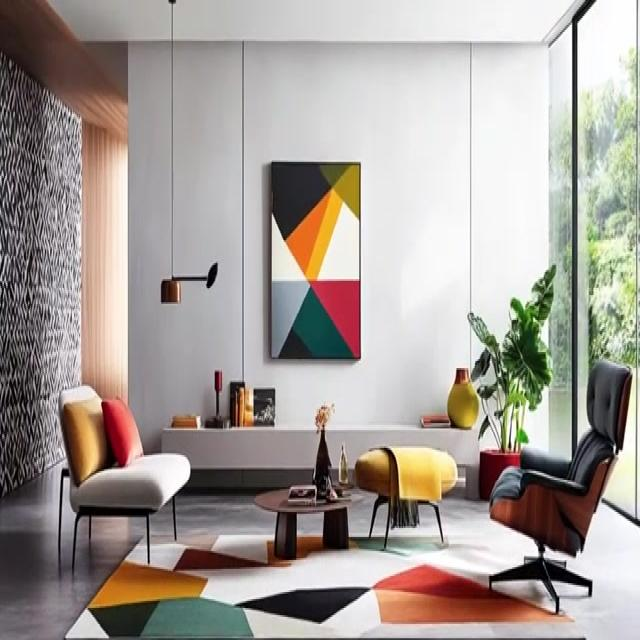obstacle: (487, 357, 632, 615), (57, 382, 190, 572), (253, 485, 363, 560)
